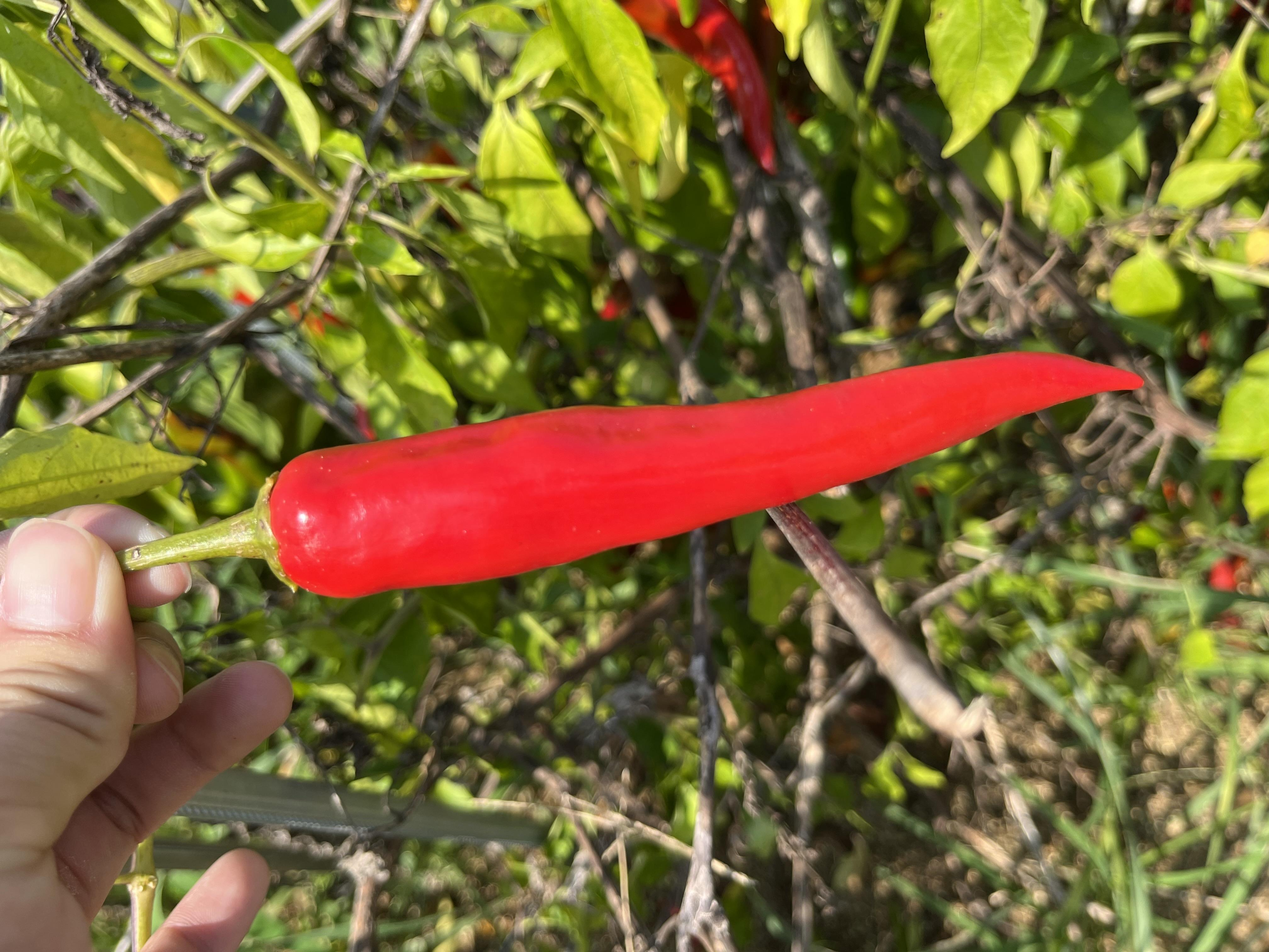Buah Cabai Sehat: (457, 170, 821, 870)
